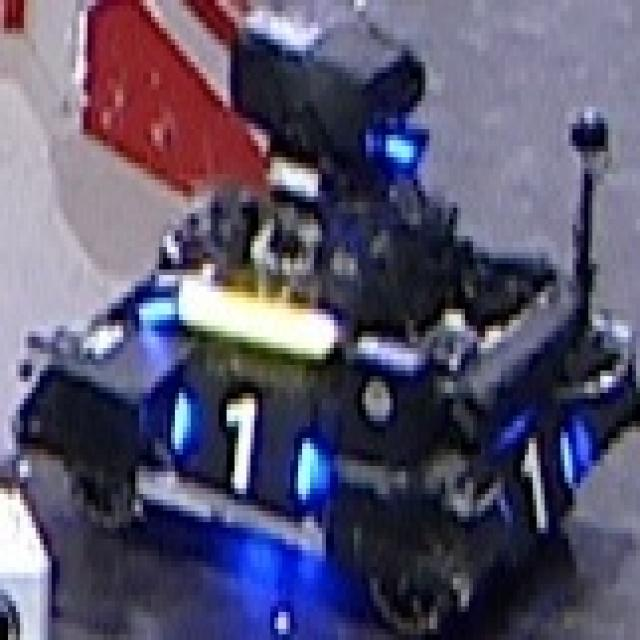B1: (167, 382, 318, 499)
